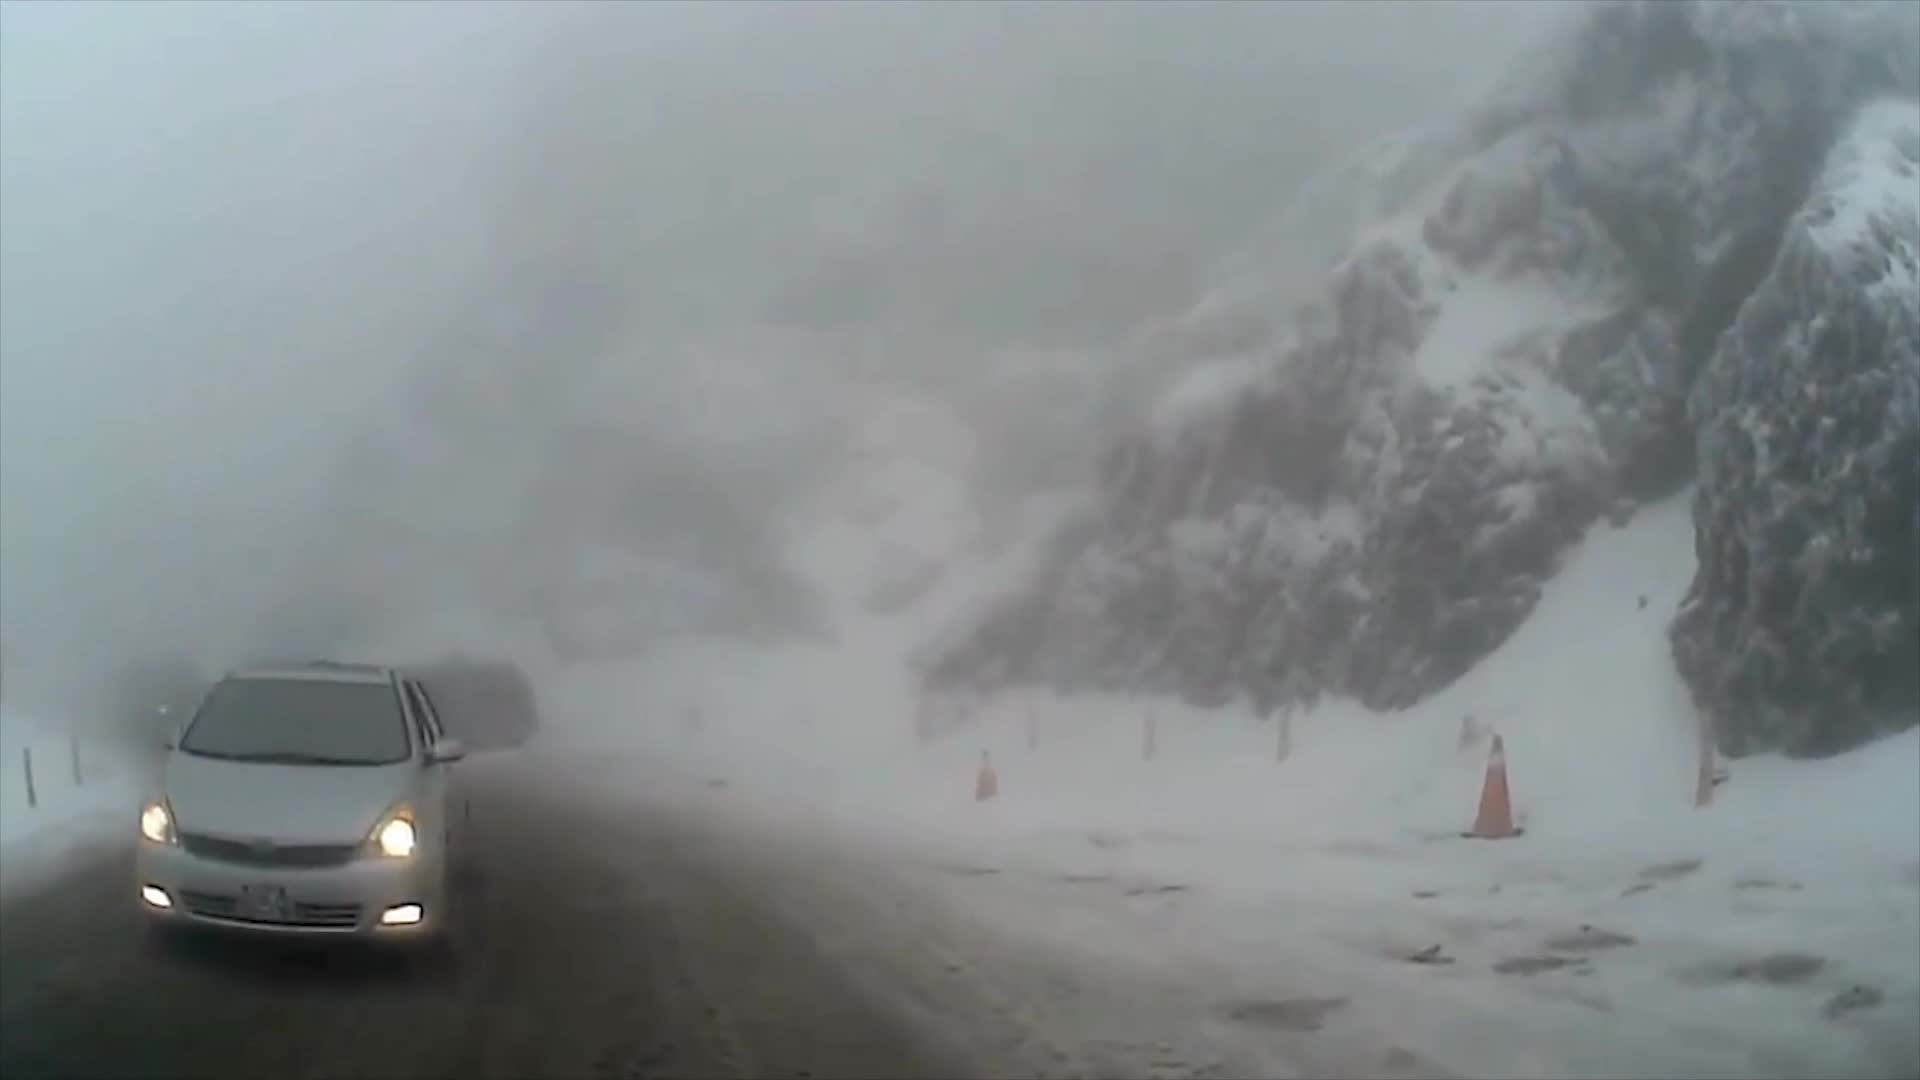vehicle: (131, 655, 464, 969)
